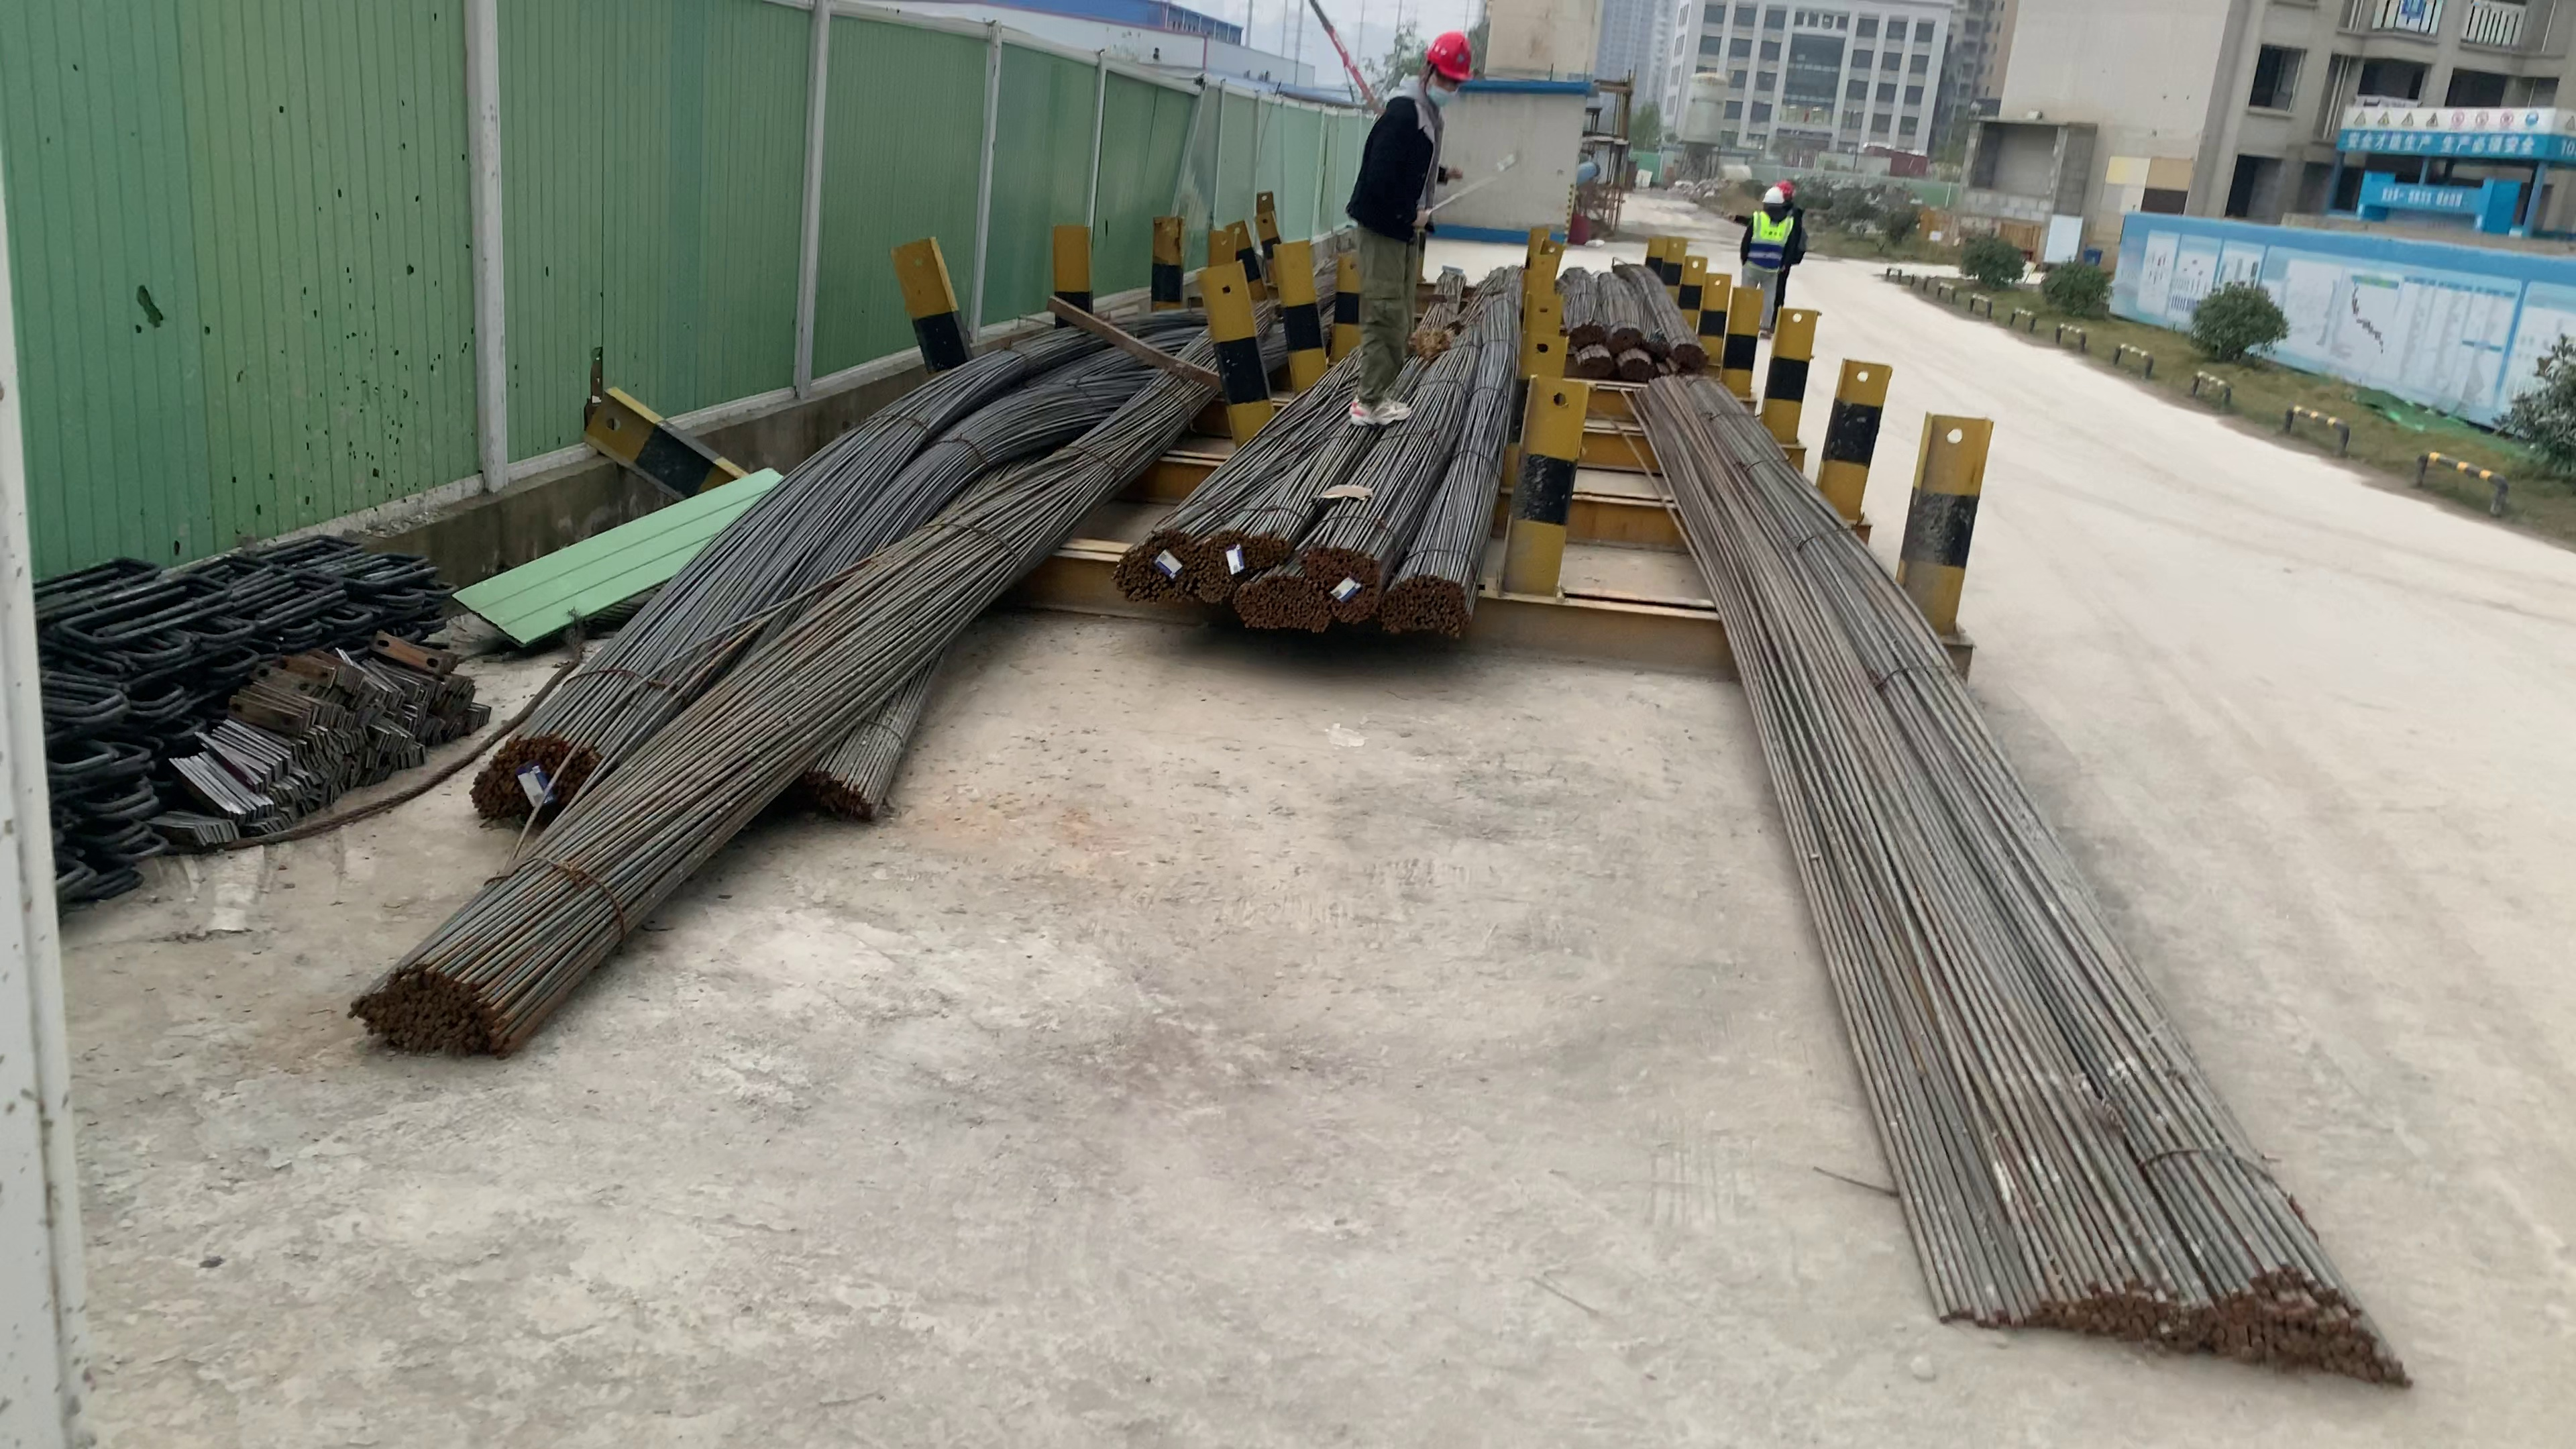rebar: (1950, 1233, 2411, 1394), (354, 966, 515, 1065), (469, 736, 594, 814), (780, 766, 883, 832), (1384, 573, 1472, 640), (1106, 531, 1196, 596), (1309, 536, 1373, 619), (1237, 575, 1325, 630), (1201, 529, 1286, 582), (1674, 334, 1707, 372), (1610, 320, 1644, 343), (1582, 352, 1610, 372), (1576, 317, 1601, 338), (1619, 356, 1645, 375)
